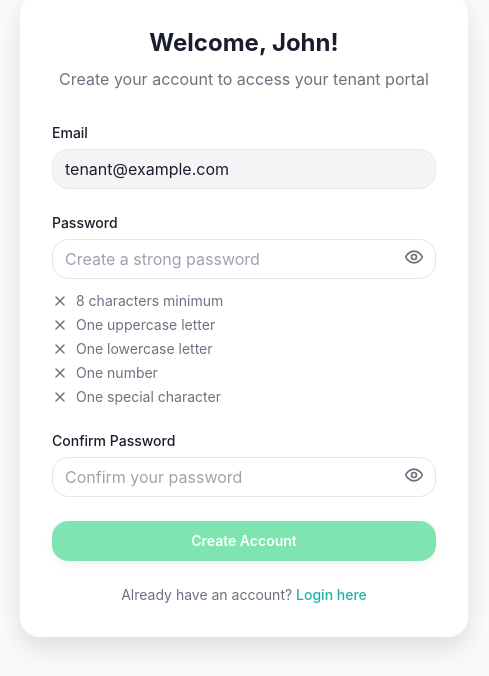
Test: TenantSignupPage › Signup Submission › should show error on signup failure
In the password field labelled "Password": (244, 259) 52,239 -> 436,279, type "StrongPass123!"
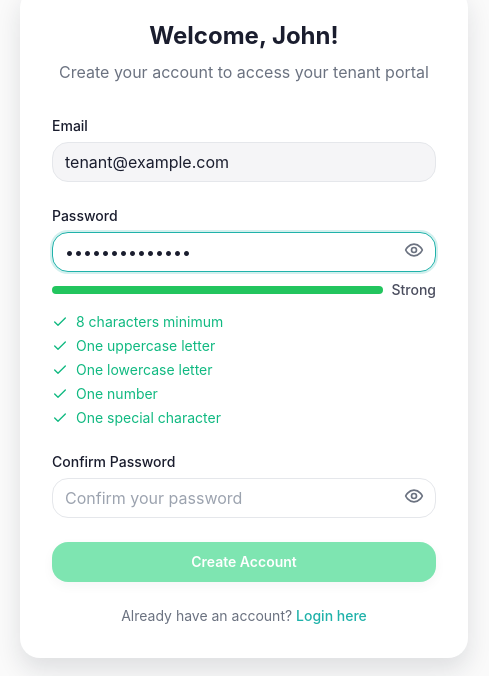
In the password field labelled "Confirm Password": (244, 498) 52,478 -> 436,518, type "StrongPass123!"
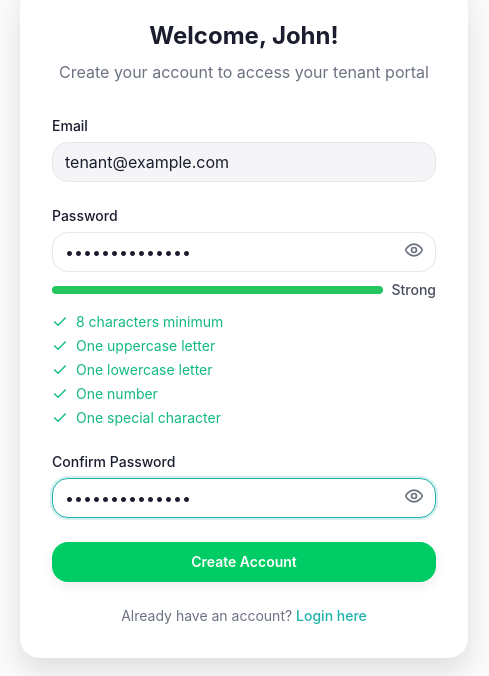
Click the button "Create Account": click(244, 562) 52,542 -> 436,582
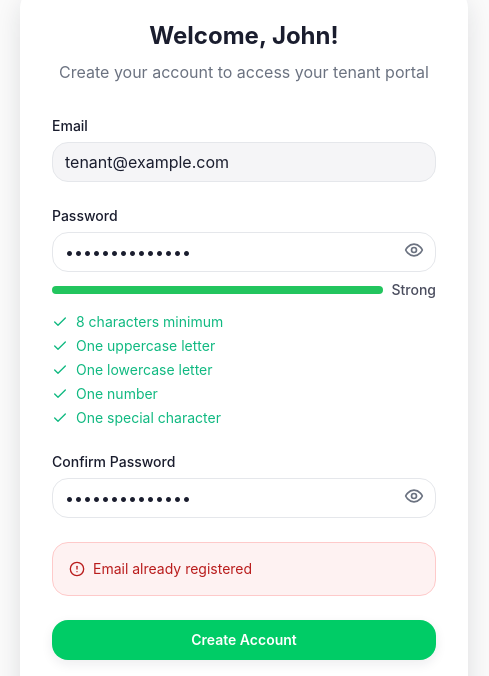
Now the text "Email already registered" is shown, box 69,560 -> 252,577
